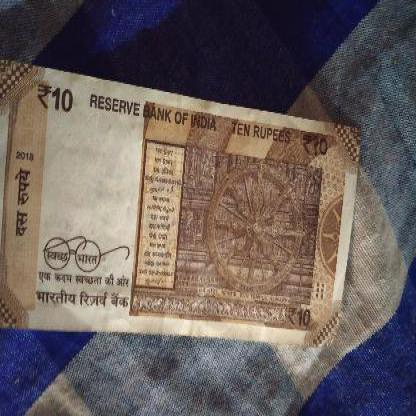New10Back: (0, 61, 351, 331)
